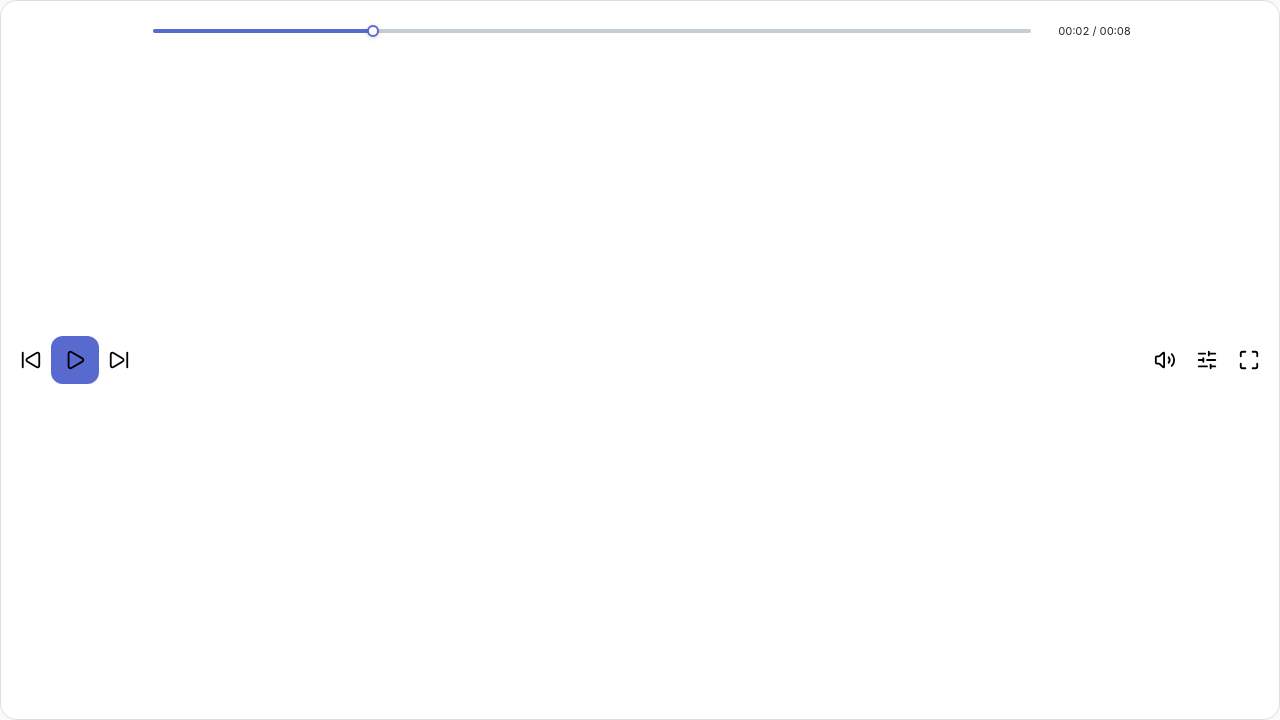
Test: VideoControls › offers the approved controls, Chinese names, shortcuts, and exact rates
Click the button named "更多播放控制" at (1207, 360), box [1187,340,1227,380]
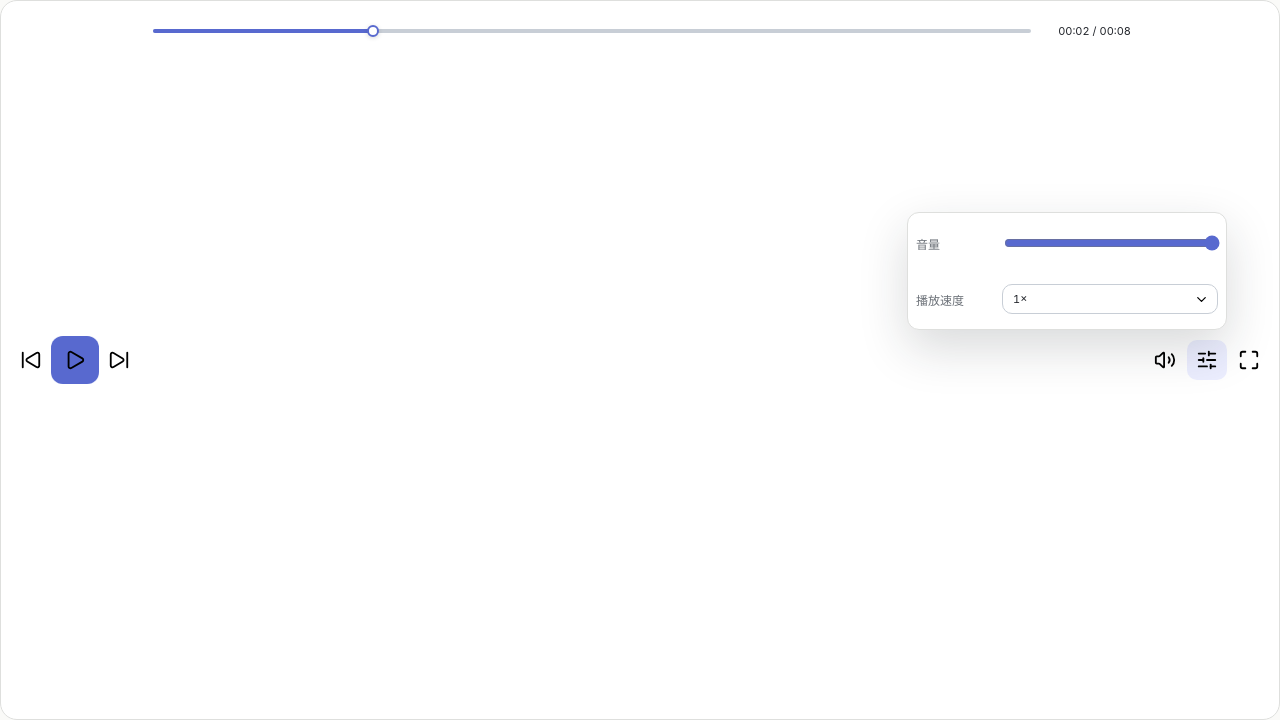
Click the button named "播放速度，当前 1×" at (1110, 299), box [1002,284,1218,314]
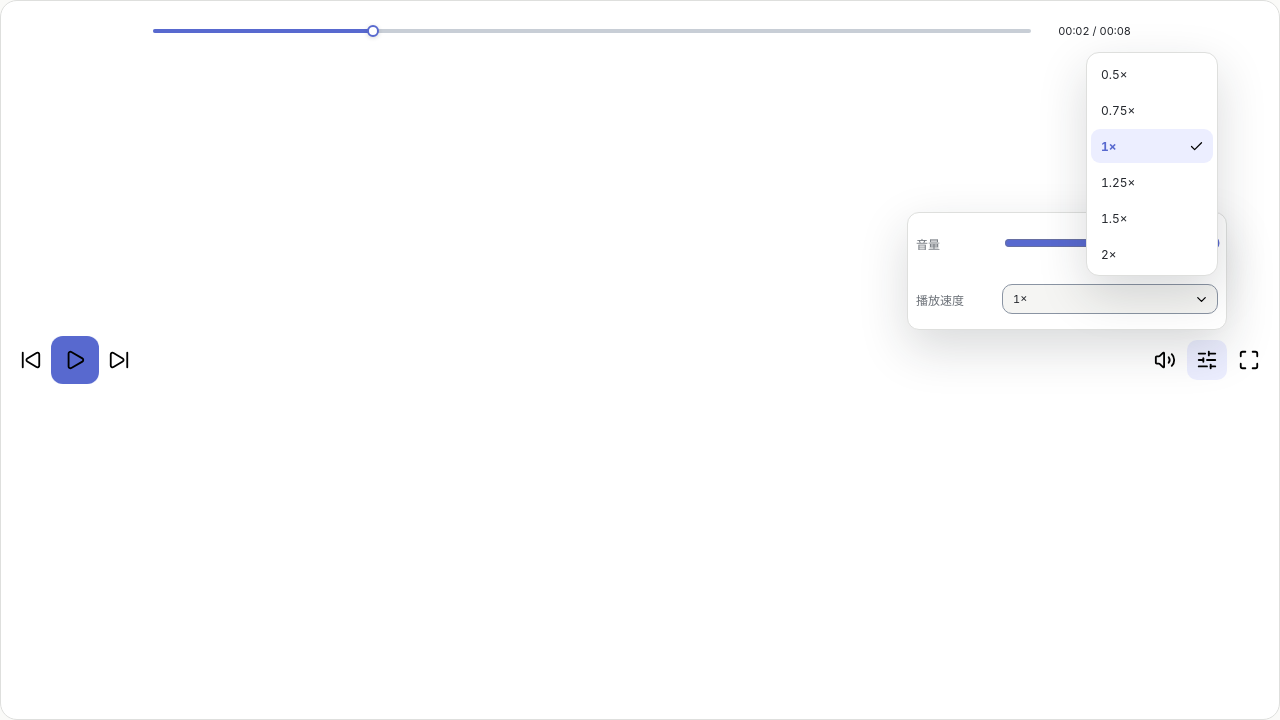
Check: the options read "0.5×", "0.75×", "1×", "1.25×", "1.5×", "2×", in this order, box [1091,57,1213,91]; [1091,93,1213,127]; [1091,129,1213,163]; [1091,165,1213,199]; [1091,201,1213,235]; [1091,237,1213,271]
